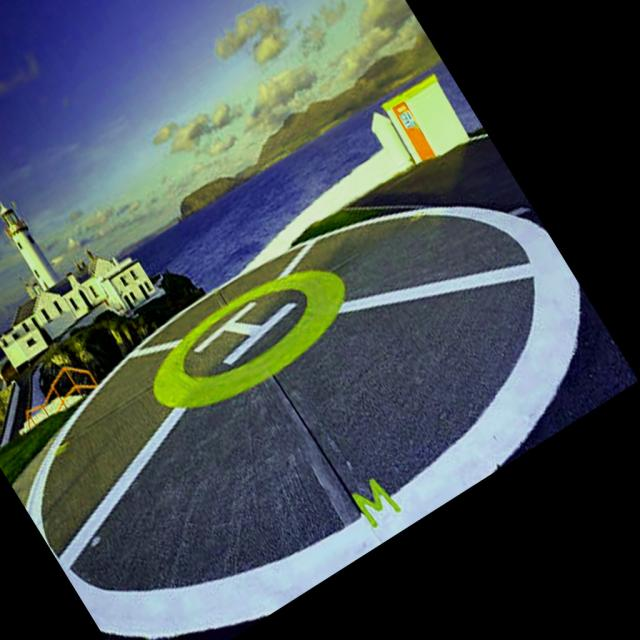helipad: (148, 268, 350, 410)
